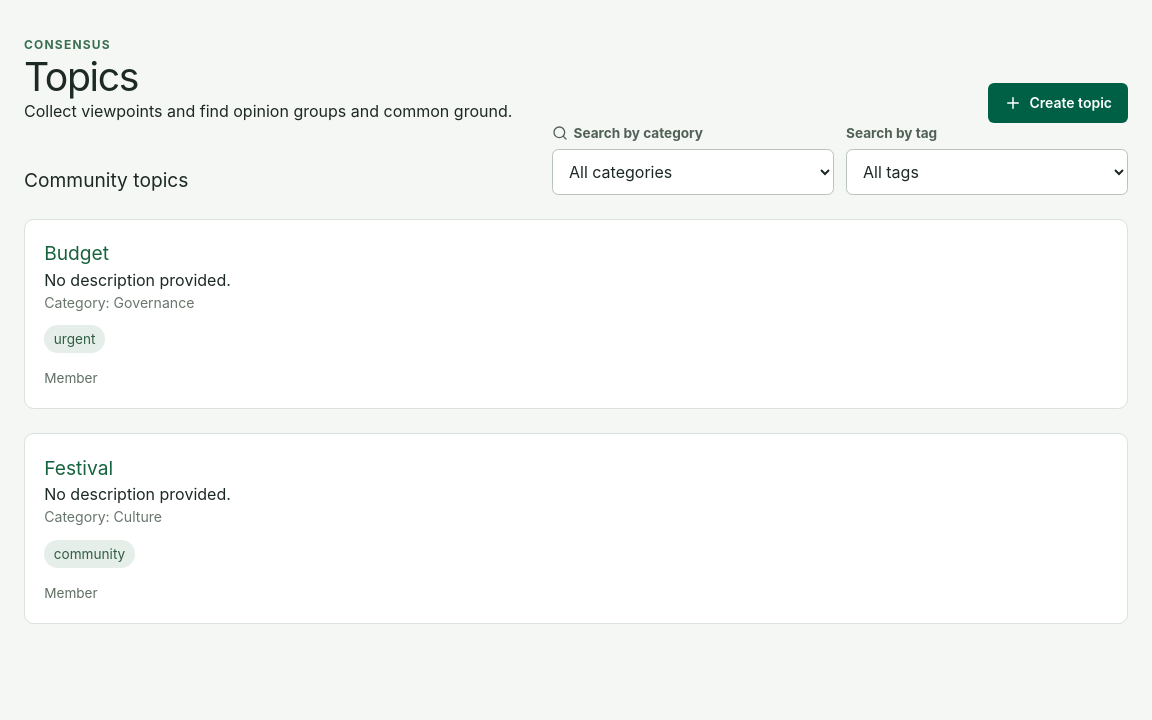
TopicsPage › requests and displays topics with the selected tag
Check: the link "Budget" is shown, box [44,241,109,265]
Select "community" in the dropdown labelled "Search by tag" at [987, 172], box [846,149,1128,195]
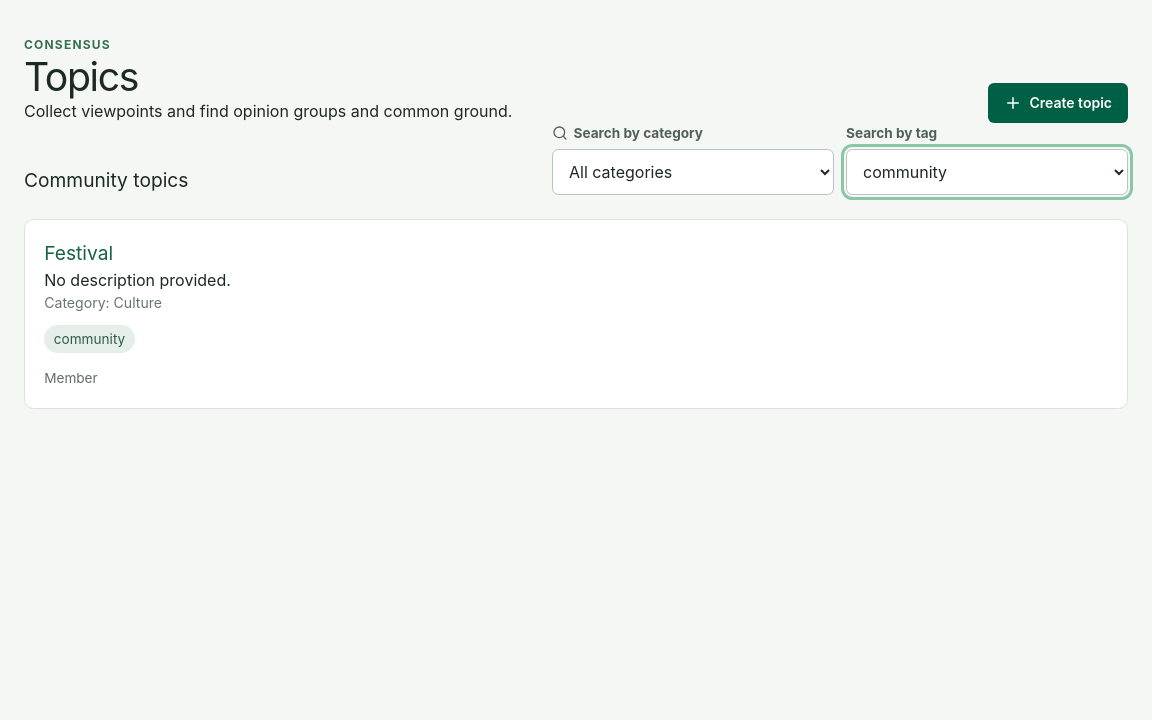
Check: the link "Festival" is shown, box [44,241,113,265]
Check: the link "Budget" is gone
